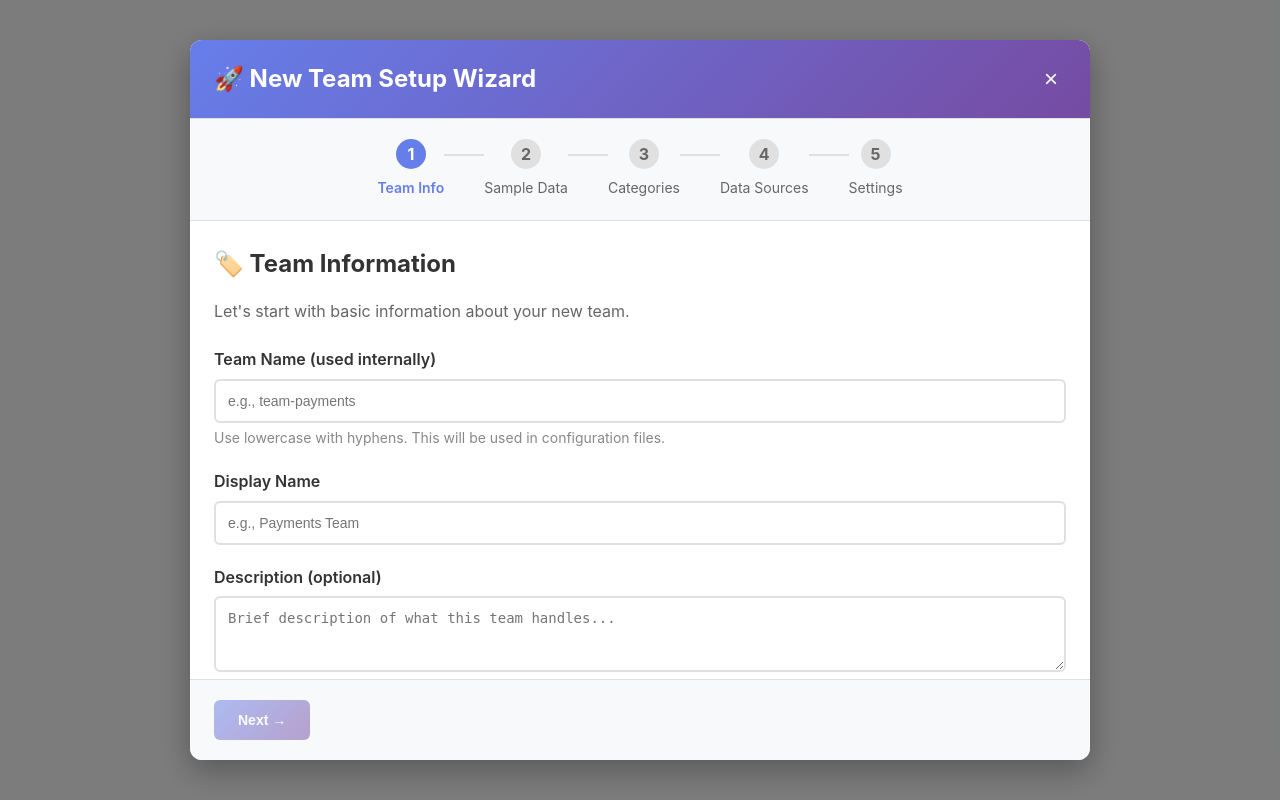
Scenario: NewTeamWizard › advances to step 2 when team info is valid
Note: Fill required fields
Type "team-test" into the field labelled "Team Name (used internally)" at (640, 401), box [214, 379, 1066, 423]
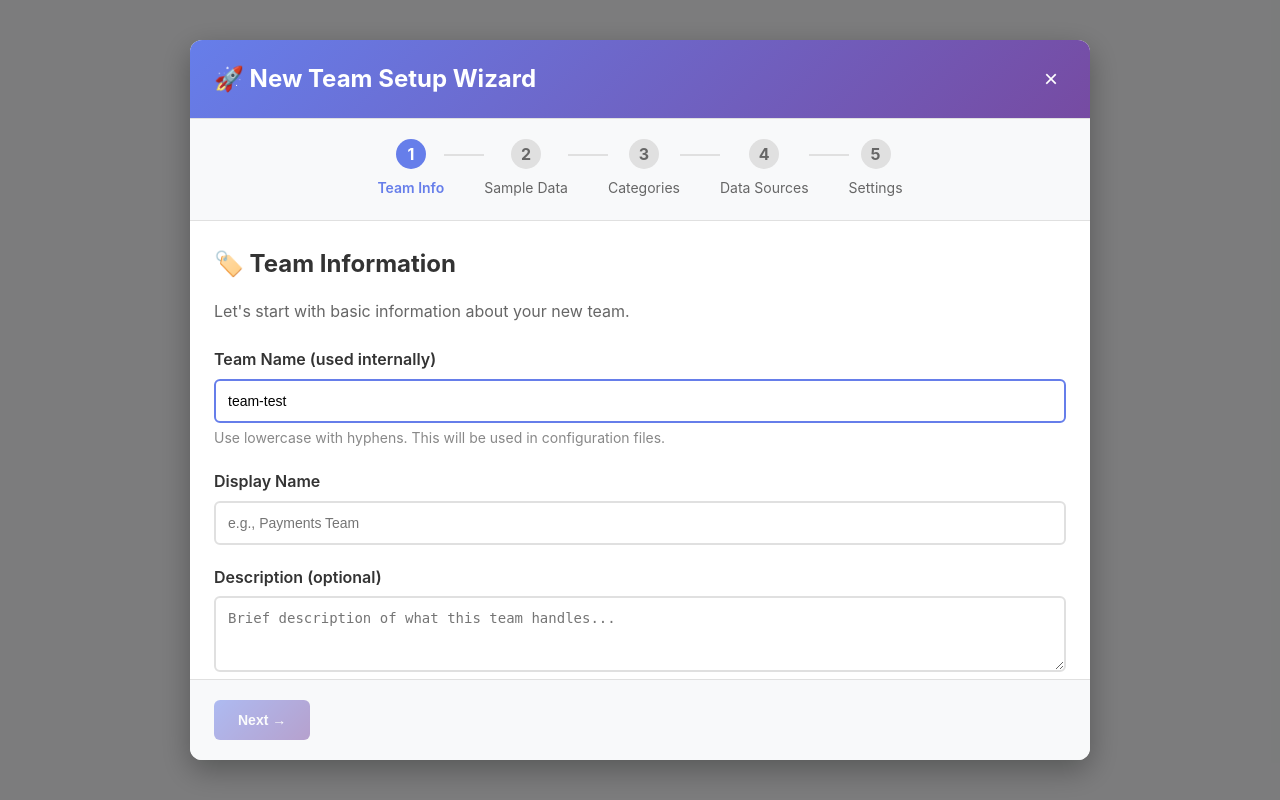
Type "Test Team" into the field labelled "Display Name" at (640, 523), box [214, 501, 1066, 545]
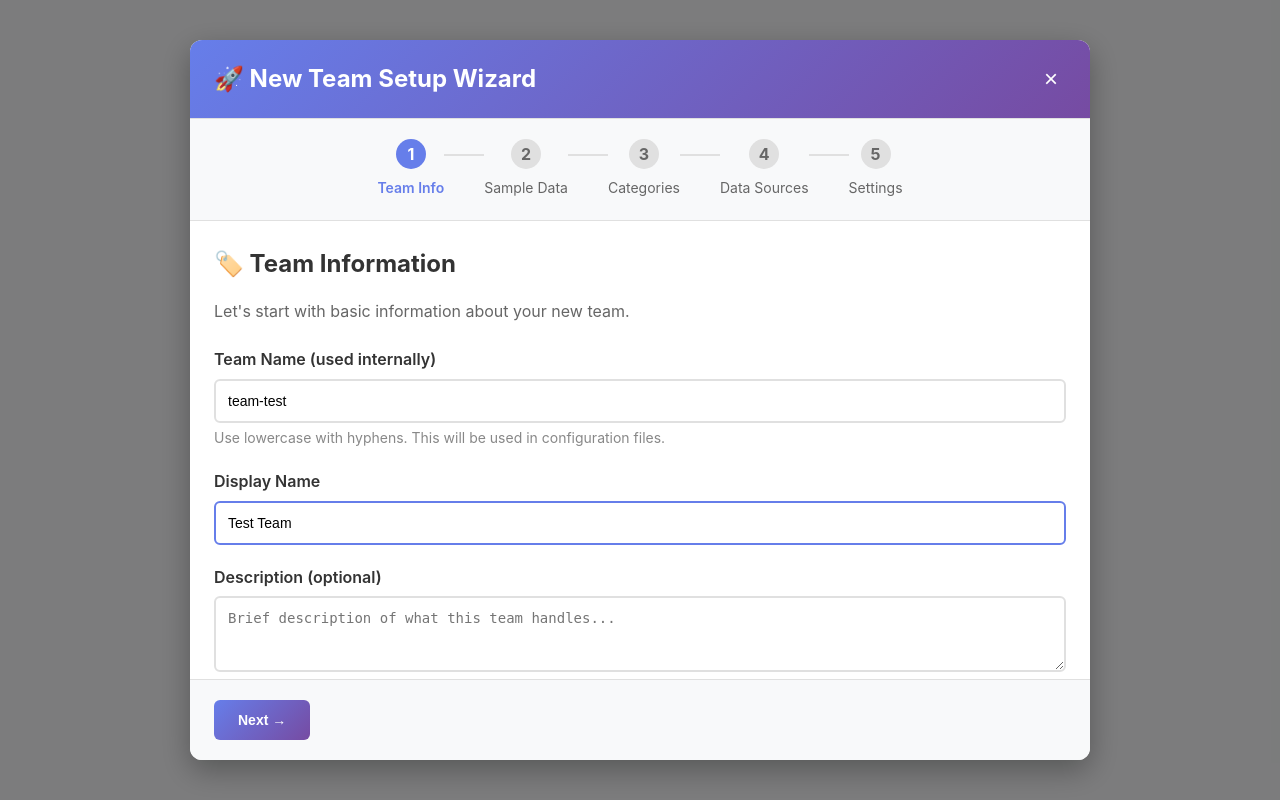
Note: Click next
Click the button "Next →" at (262, 720), box [214, 700, 310, 740]
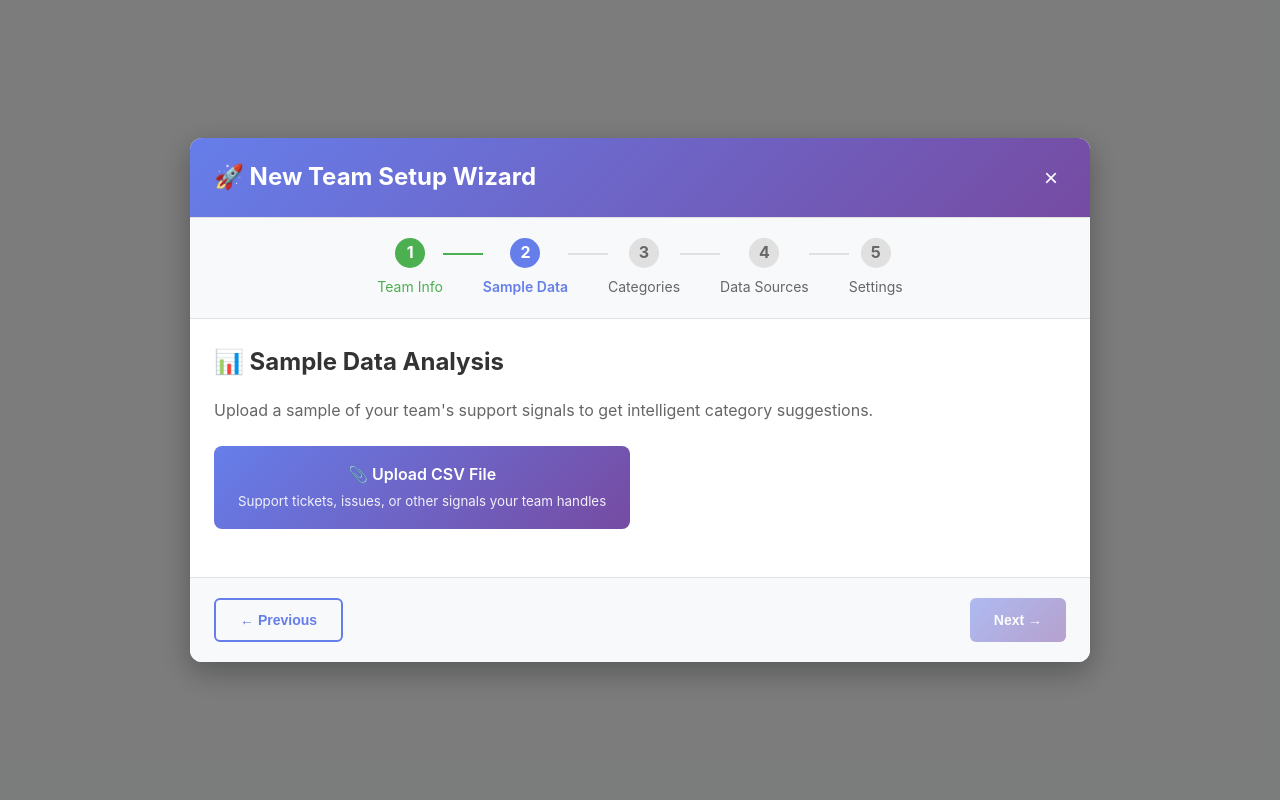
Now the heading "📊 Sample Data Analysis" is shown, box [214, 347, 504, 376]
Now the text "Upload a sample of your team's support signals to get intelligent category suggestions." is shown, box [214, 400, 873, 420]
